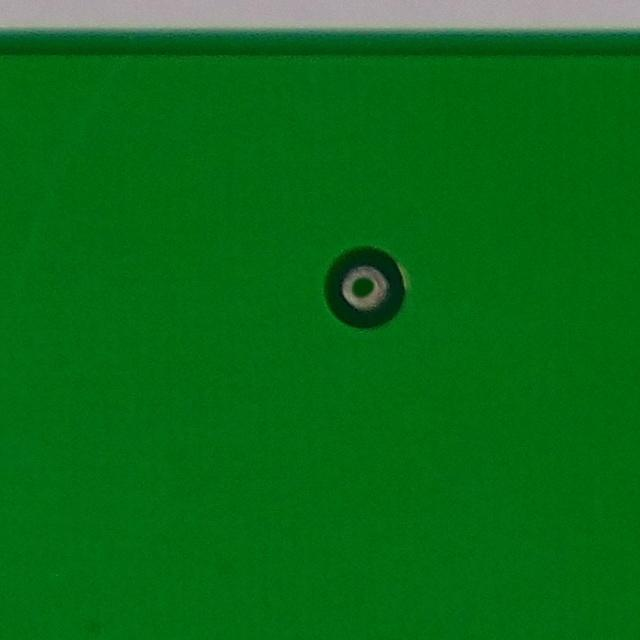missing_hole: (335, 263, 397, 314)
